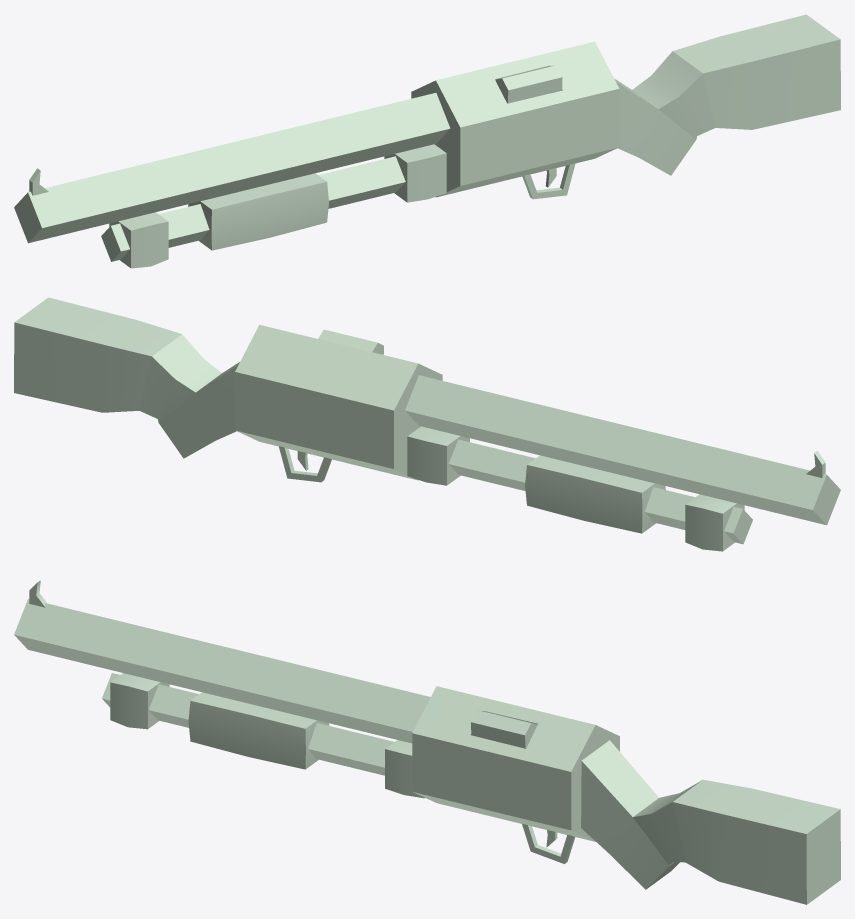
The model's file is ShotGunFinal.fbx.
3 renders of one model, top to bottom at view 1: azimuth 30°, elevation 25°; view 2: azimuth 150°, elevation 25°; view 3: azimuth 330°, elevation 25°, orthographic.
Parts seen in each view (by area): view 1: pCube21, pCube27, pCylinder93, pCube26, pCube23, pCube29, pCube28, pCylinder94; view 2: pCube21, pCube27, pCylinder93, pCube26, pCube23, pCube29, pCube28, pCylinder94; view 3: pCube27, pCube21, pCylinder93, pCube26, pCube23, pCube28, pCylinder94, pCube29.
Boxes of the visible parts, bbox=[...] form: pCube21: bbox=[14, 93, 450, 243]; pCube27: bbox=[551, 14, 840, 175]; pCylinder93: bbox=[411, 41, 619, 197]; pCube26: bbox=[188, 173, 328, 250]; pCube23: bbox=[101, 156, 405, 261]; pCube29: bbox=[384, 144, 446, 202]; pCube28: bbox=[109, 212, 168, 268]; pCylinder94: bbox=[495, 65, 562, 103]; pCube21: bbox=[405, 375, 840, 525]; pCube27: bbox=[14, 297, 239, 458]; pCylinder93: bbox=[235, 324, 442, 480]; pCube26: bbox=[525, 455, 665, 533]; pCube23: bbox=[449, 439, 752, 544]; pCube29: bbox=[407, 426, 469, 485]; pCube28: bbox=[685, 494, 744, 551]; pCylinder94: bbox=[318, 329, 383, 354]; pCube27: bbox=[581, 740, 840, 904]; pCube21: bbox=[14, 599, 430, 743]; pCylinder93: bbox=[412, 686, 619, 841]; pCube26: bbox=[188, 692, 329, 769]; pCube23: bbox=[102, 673, 394, 775]; pCube28: bbox=[110, 673, 169, 729]; pCylinder94: bbox=[471, 710, 537, 748]; pCube29: bbox=[385, 740, 424, 798].
Bounding box in the file's own units: 1.06 × 0.1951 × 0.1123.
